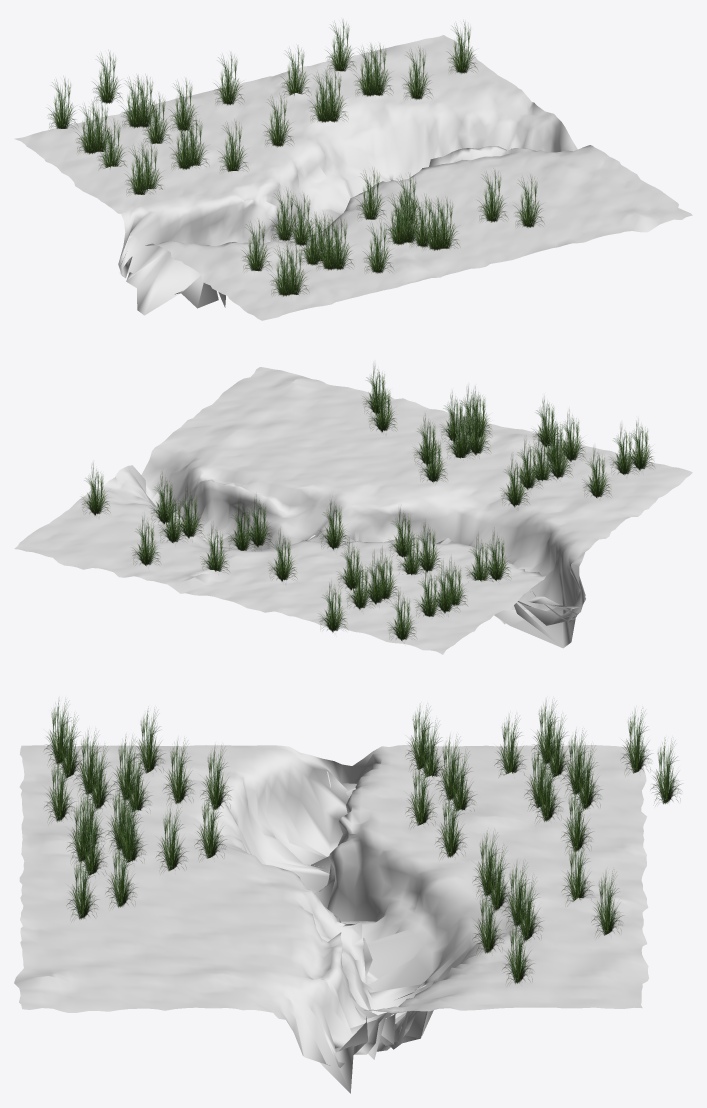
3 renders of one model, top to bottom at view 1: azimuth 30°, elevation 25°; view 2: azimuth 150°, elevation 25°; view 3: azimuth 270°, elevation 25°, orthographic. The views are drawn at different scales.
Parts seen in each view (by area): view 1: Plane, Plane007_02 - Default_0.018, Plane007_02 - Default_0.013, Plane007_02 - Default_0.029, Plane007_02 - Default_0.024, Plane007_02 - Default_0.006, Plane007_02 - Default_0.025, Plane007_02 - Default_0.030, Plane007_02 - Default_0.042, Plane007_02 - Default_0.002, Plane007_02 - Default_0.022, Plane007_02 - Default_0.038 (+20 smaller); view 2: Plane; view 3: Plane.
Boxes of the visible parts, box(x1,y1,x2,y2) form: Plane: box(14, 35, 692, 320); Plane007_02 - Default_0.018: box(403, 47, 432, 99); Plane007_02 - Default_0.013: box(448, 21, 477, 73); Plane007_02 - Default_0.029: box(264, 95, 293, 147); Plane007_02 - Default_0.024: box(93, 52, 122, 103); Plane007_02 - Default_0.006: box(385, 194, 413, 245); Plane007_02 - Default_0.025: box(121, 77, 149, 128); Plane007_02 - Default_0.030: box(171, 118, 200, 169); Plane007_02 - Default_0.042: box(364, 223, 393, 273); Plane007_02 - Default_0.002: box(515, 176, 544, 227); Plane007_02 - Default_0.022: box(76, 103, 104, 154); Plane007_02 - Default_0.038: box(315, 219, 344, 270); Plane: box(14, 367, 692, 654); Plane: box(14, 745, 648, 1093).
Bounding box in the file's own units: 14.04 × 4.66 × 14.45.
44 materials, 44 textured.
